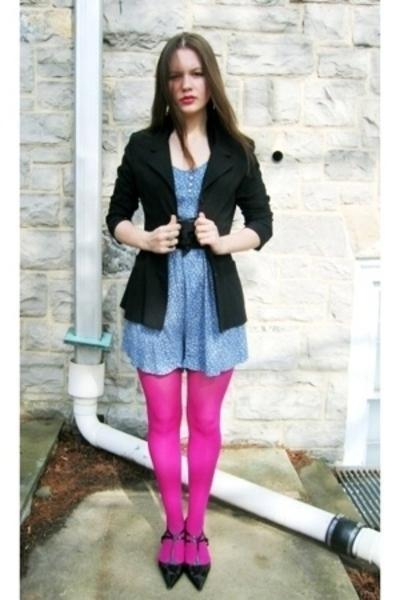dress: (122, 156, 247, 374)
jacket: (106, 132, 272, 332)
shoe: (158, 561, 203, 587)
